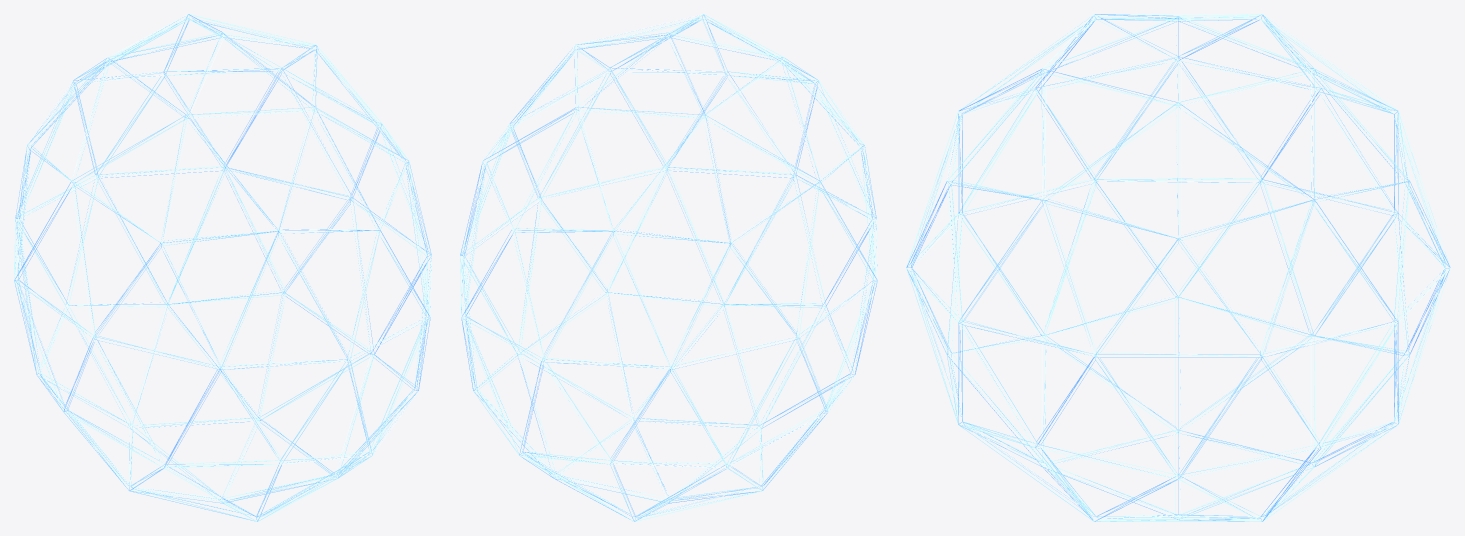
Rendered from cage.glb.
The picture shows the model from 3 angles, left to right: view 1: azimuth 30°, elevation 25°; view 2: azimuth 150°, elevation 25°; view 3: azimuth 270°, elevation 25°; orthographic projection. The views are drawn at different scales.
Parts seen in each view (by area): view 1: Icosphere; view 2: Icosphere; view 3: Icosphere.
Part boxes in pixels (box(x1,y1,x2,y2)): Icosphere: box(14, 14, 431, 521); Icosphere: box(460, 14, 877, 521); Icosphere: box(906, 14, 1450, 521).
Size of the model in its own units: 6.38 by 8.48 by 8.3.
